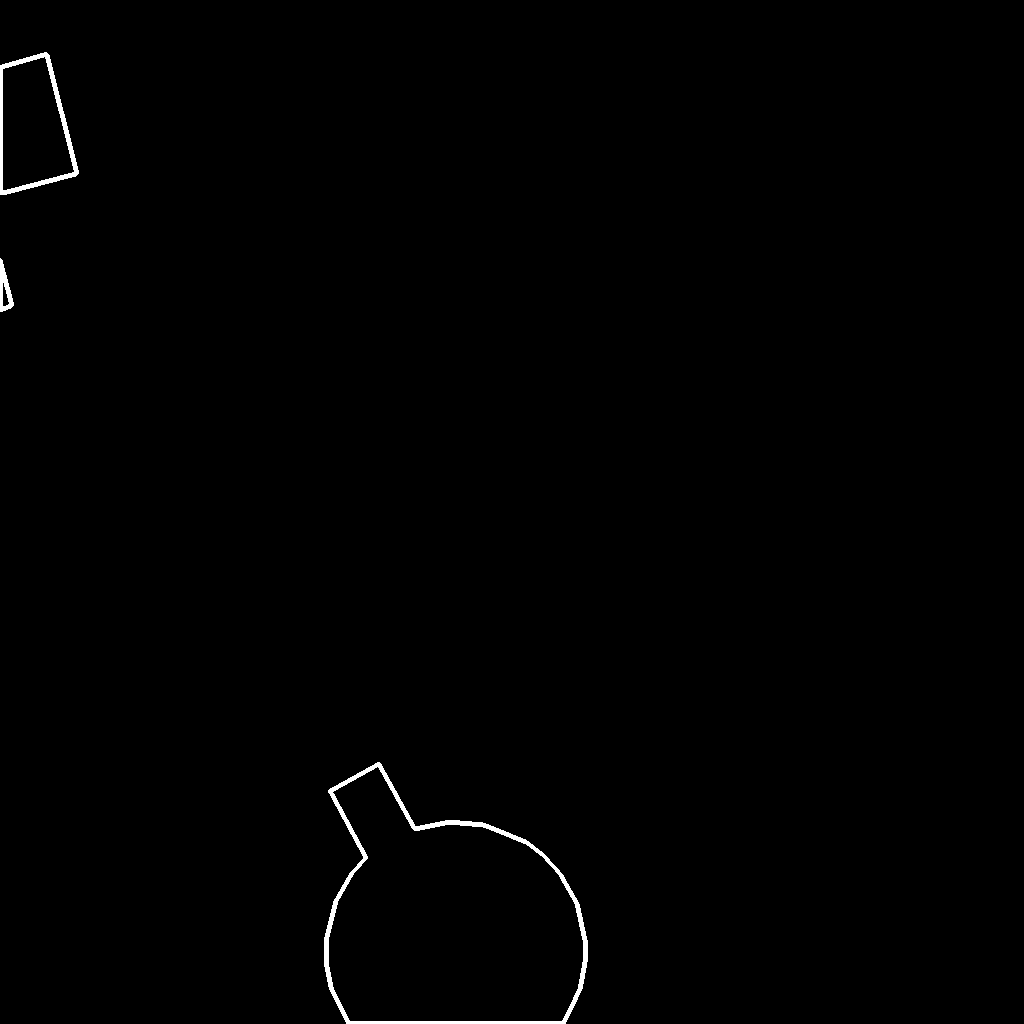building: (326, 764, 586, 1024), (0, 54, 78, 311)
